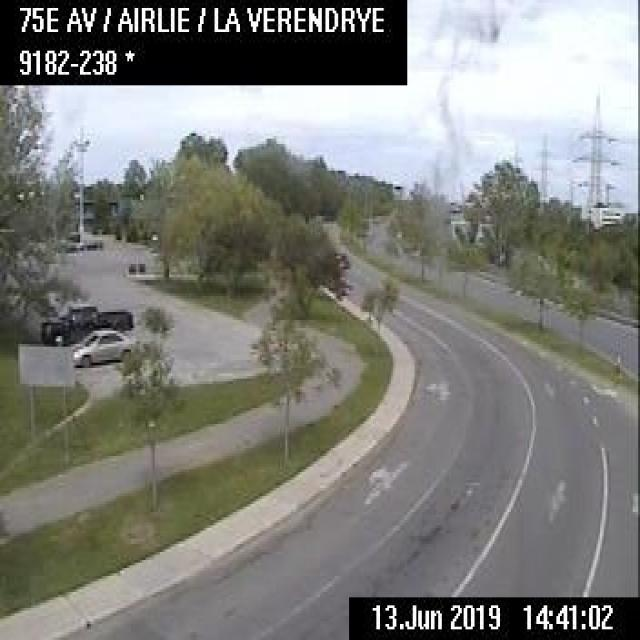vehicle: (40, 298, 134, 344), (71, 327, 131, 364)
